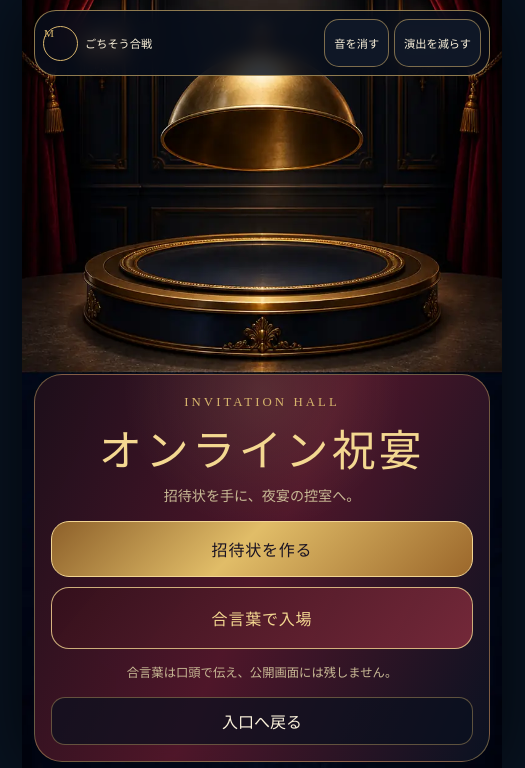
online banquet lobby › lets only a host with another guest open the feast
Step 1. Click the button "招待状を作る" → [262, 549], box [51, 521, 473, 577]
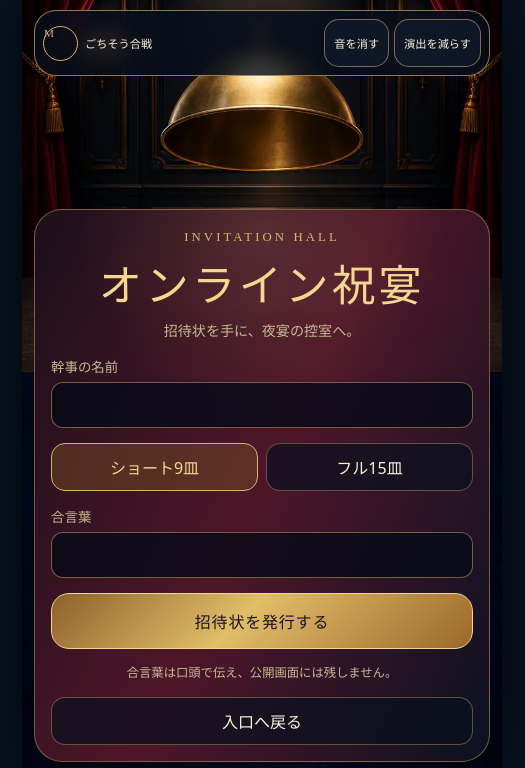
Step 2. Type "やまだ" into the field labelled "幹事の名前" → [262, 405], box [51, 382, 473, 428]
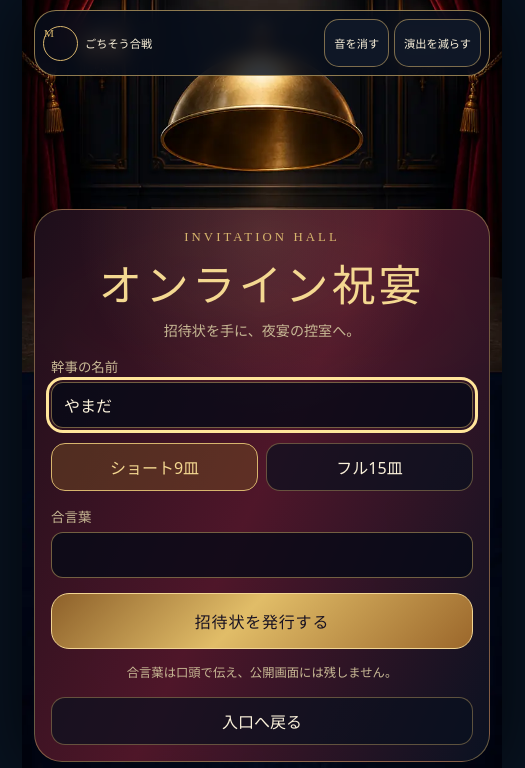
Step 3. Type "月夜のタルト" into the password field labelled "合言葉" → [262, 555], box [51, 532, 473, 578]
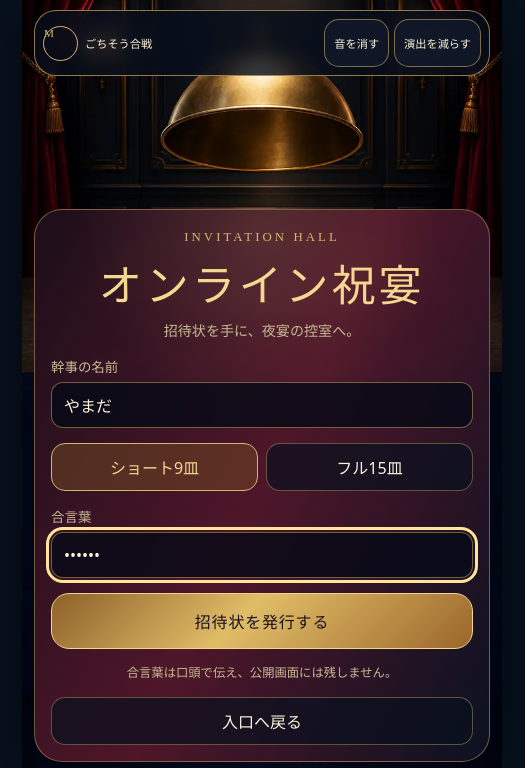
Step 4. Click the button "招待状を発行する" → [262, 621], box [51, 593, 473, 649]
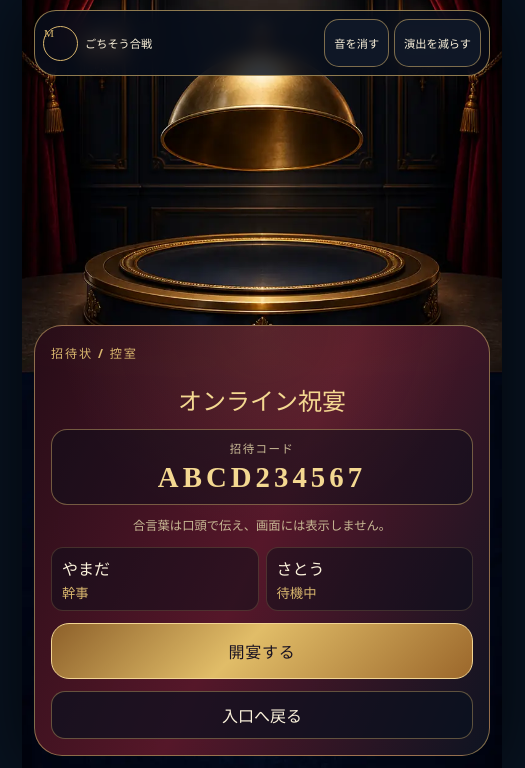
Check: the button "開宴する" is enabled, box [51, 623, 473, 679]
Check: the text "ABCD234567" is shown, box [158, 461, 366, 493]
